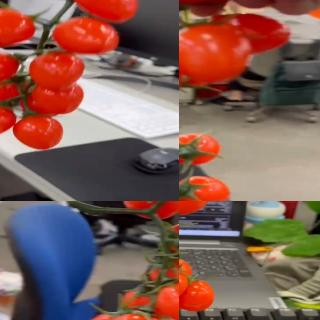tomato: (179, 23, 253, 85), (203, 13, 293, 54), (53, 16, 121, 55), (30, 51, 86, 91), (27, 80, 84, 116), (14, 114, 64, 152), (74, 0, 141, 25), (0, 7, 35, 50), (120, 283, 167, 315), (179, 132, 222, 166), (179, 175, 232, 201), (179, 278, 216, 313), (150, 279, 179, 320), (123, 201, 179, 221), (148, 258, 179, 291), (0, 100, 17, 139), (0, 51, 19, 85), (87, 311, 136, 320)
